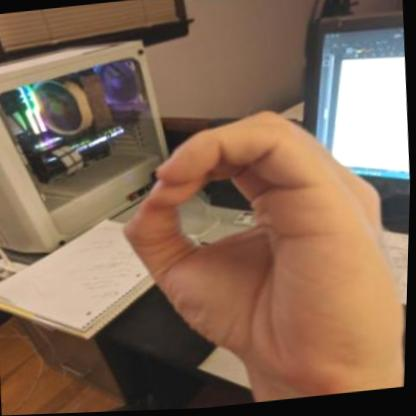O: (100, 86, 414, 413)
